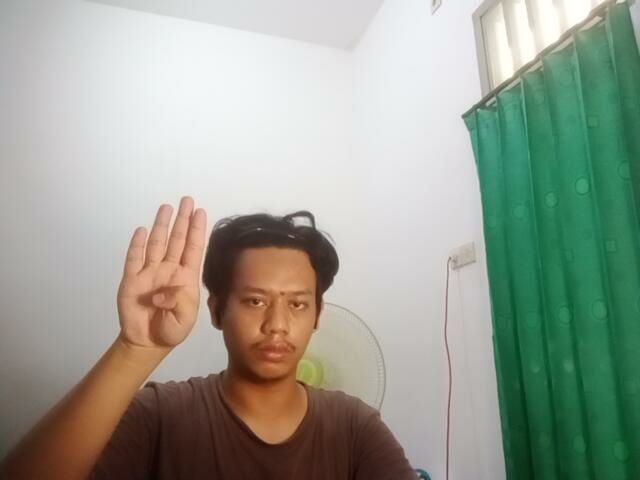B: (113, 188, 204, 351)
